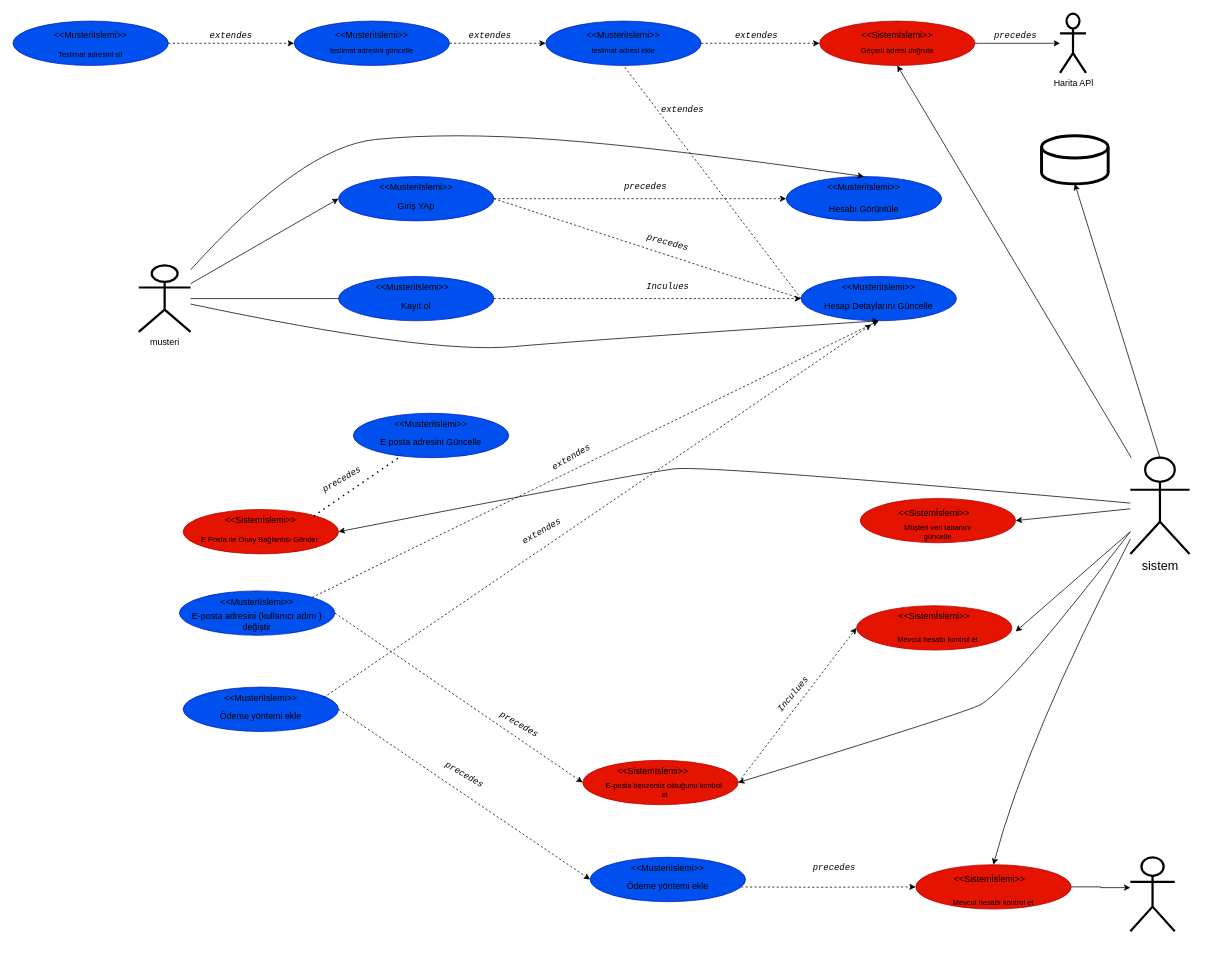
The diagram is 1208 pixels wide and 972 high, and some of its shapes have lost their labels. The centre of each missing label's shape, as x and y in pixels:
"müsteri Veri Tabanı" belongs at [1074,159].
"Ücüncü taraf ödeme doğrulama sistemi" belongs at [1152,894].
